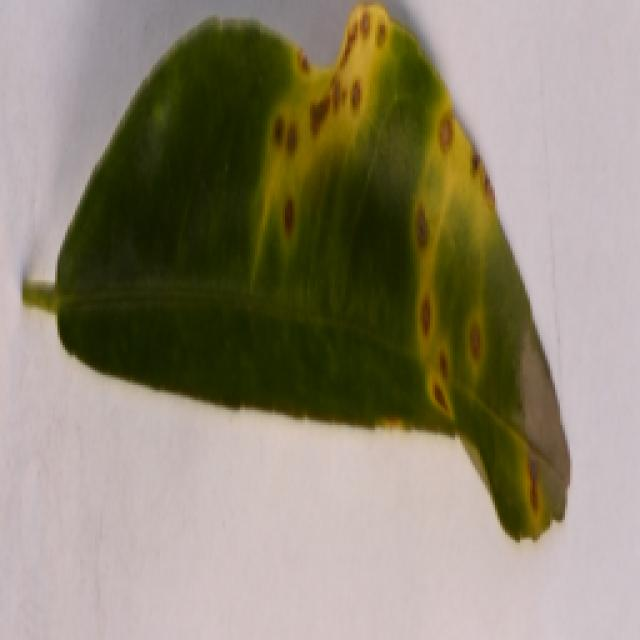canker: (35, 10, 591, 558)
